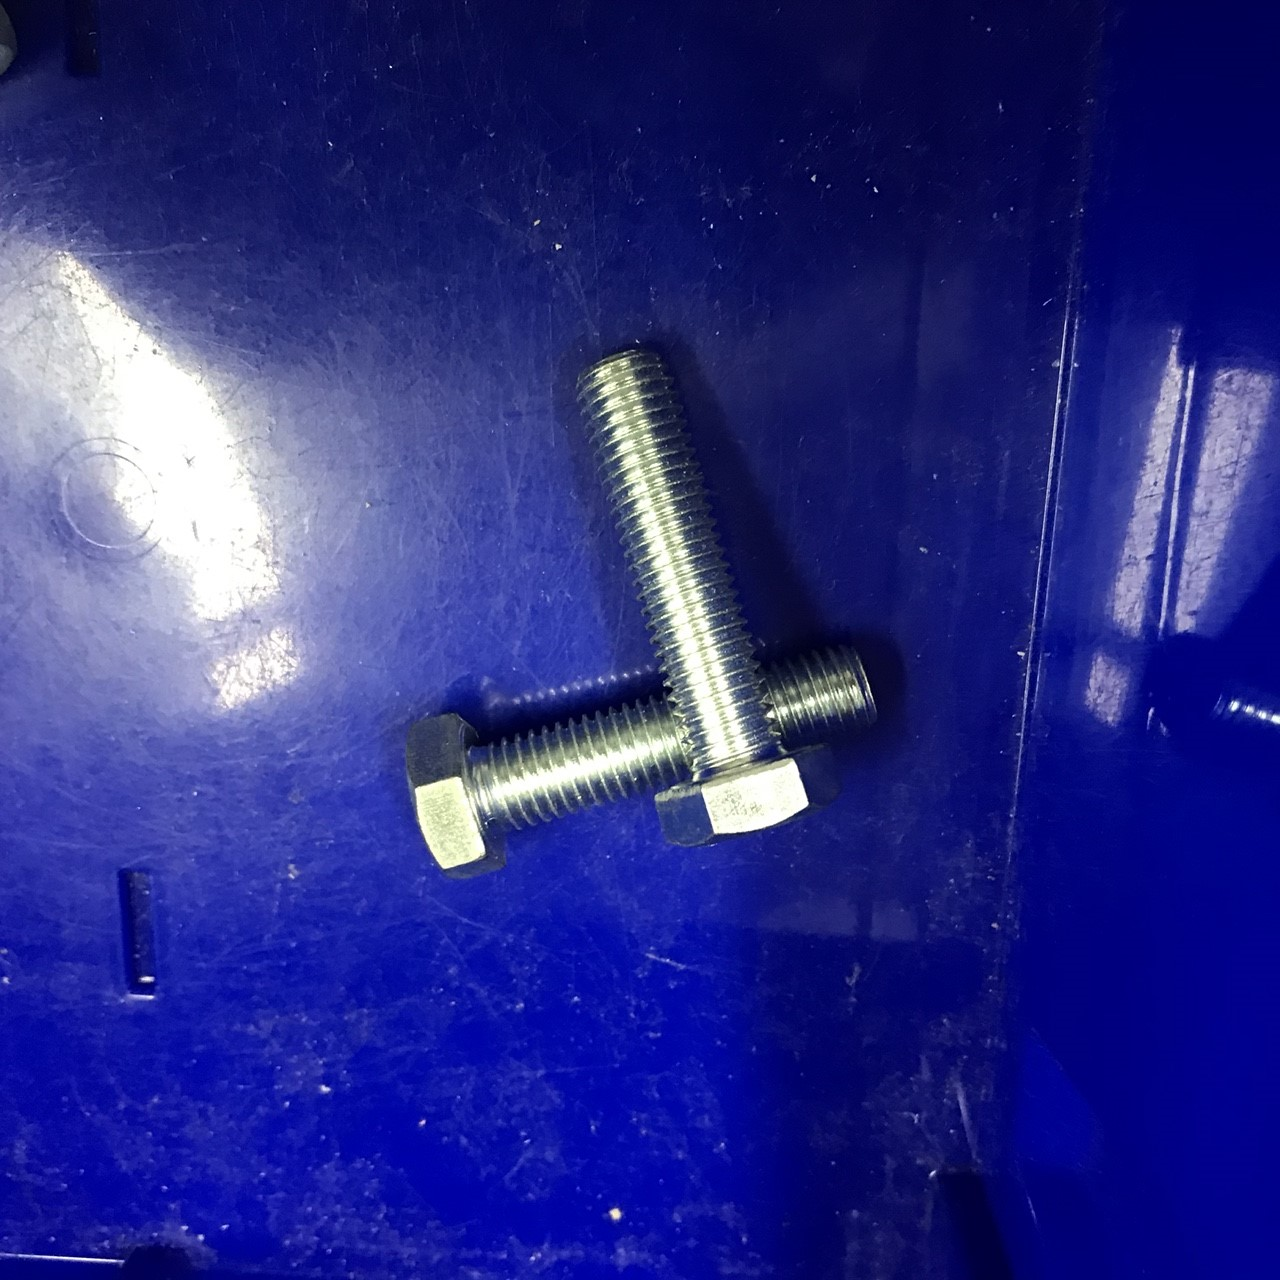screw: (565, 336, 821, 851), (388, 631, 887, 888)
